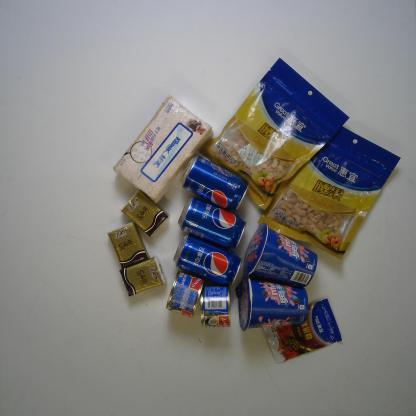Canned Food: (166, 272, 208, 318), (199, 282, 231, 328)
Dessert: (242, 223, 318, 287), (236, 276, 309, 331)
Dried Fruit: (200, 57, 350, 209), (258, 112, 402, 260)
Drink: (180, 157, 249, 211), (173, 233, 243, 286), (177, 198, 247, 249)
Seasoner: (262, 299, 342, 363)
Tissue: (113, 95, 214, 204), (120, 190, 170, 237), (108, 220, 150, 268), (119, 256, 166, 296)
